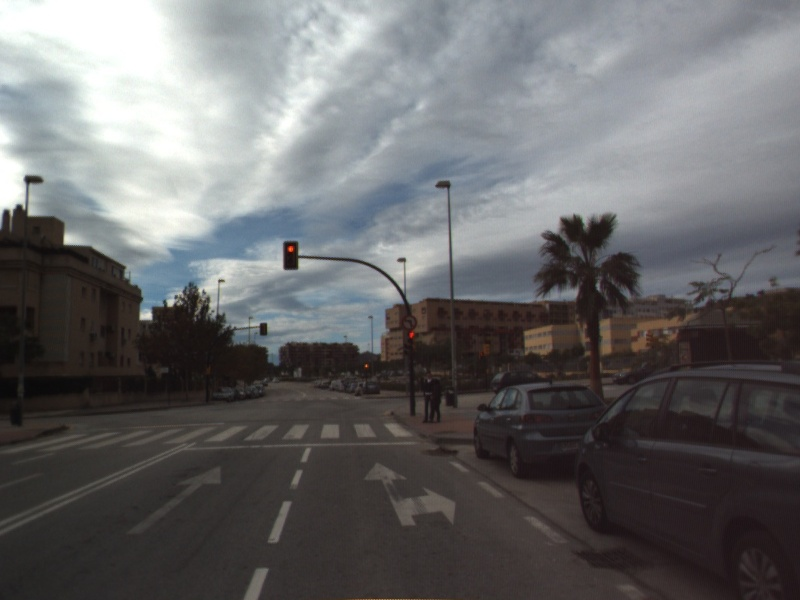STRAIGHT: (124, 464, 224, 537)
STRAIGHT_RIGHT: (361, 460, 458, 528)
